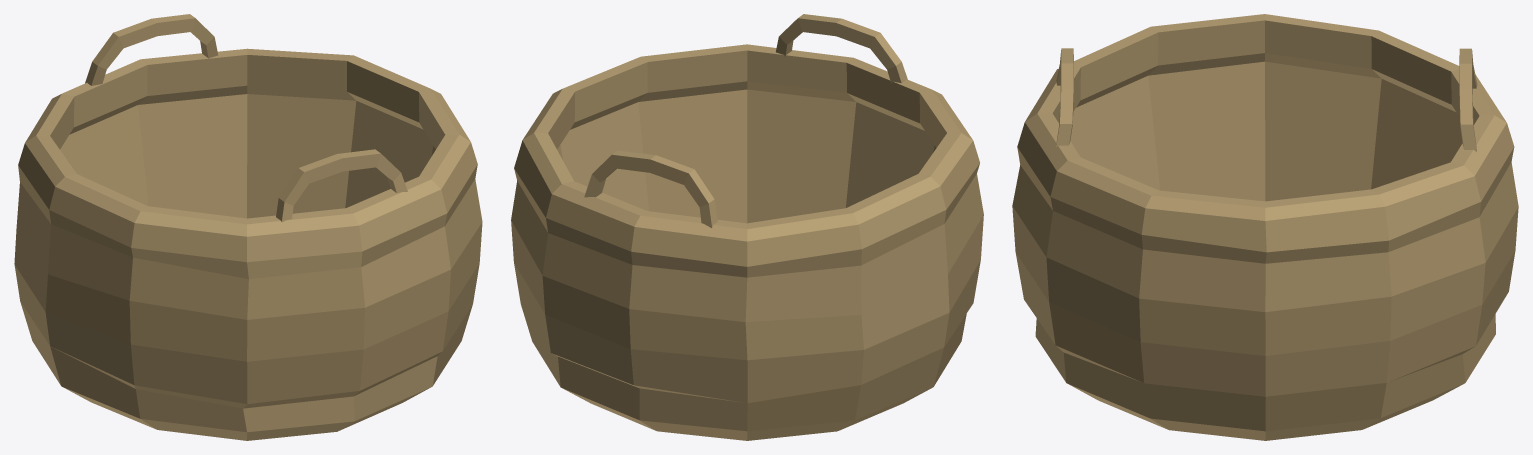
The model's file is SM_Prop_Basket_03.glb.
3 views of the same model, side by side, from view 1: azimuth 30°, elevation 25°; view 2: azimuth 150°, elevation 25°; view 3: azimuth 270°, elevation 25° (orthographic). The views are drawn at different scales.
Visible parts, largest first — view 1: SM_Prop_Basket_03; view 2: SM_Prop_Basket_03; view 3: SM_Prop_Basket_03.
Boxes of the visible parts, x1,y1,x2,y2 form: SM_Prop_Basket_03: [14, 14, 482, 440]; SM_Prop_Basket_03: [511, 14, 983, 440]; SM_Prop_Basket_03: [1012, 14, 1518, 440].
Bounding box in the file's own units: 1.16 × 0.7605 × 1.17.
Materials: 1 (1 with a texture image).
